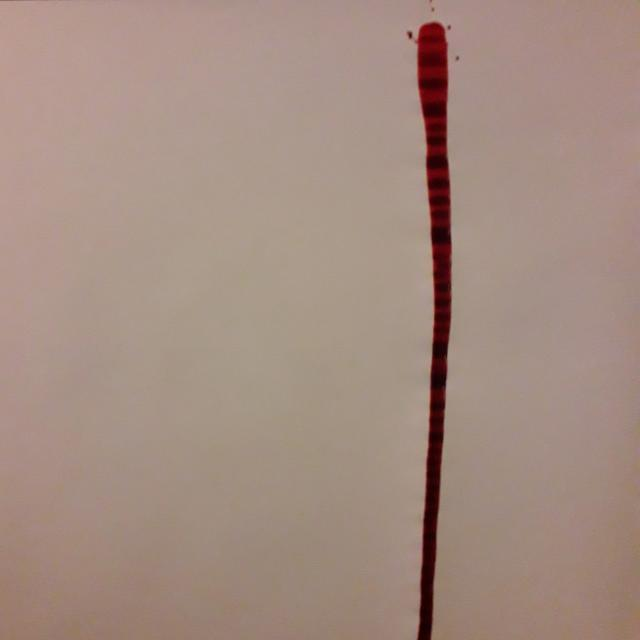wound: (374, 10, 504, 640)
